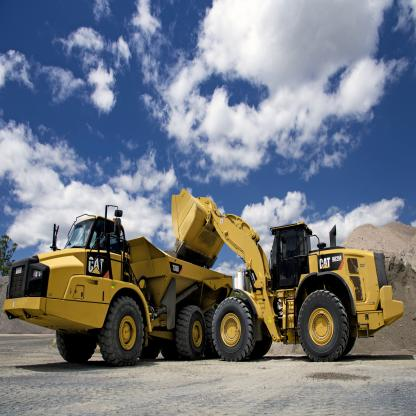bull_dozer/loader/grader: (164, 174, 406, 368)
dump_truck: (5, 208, 227, 382)
